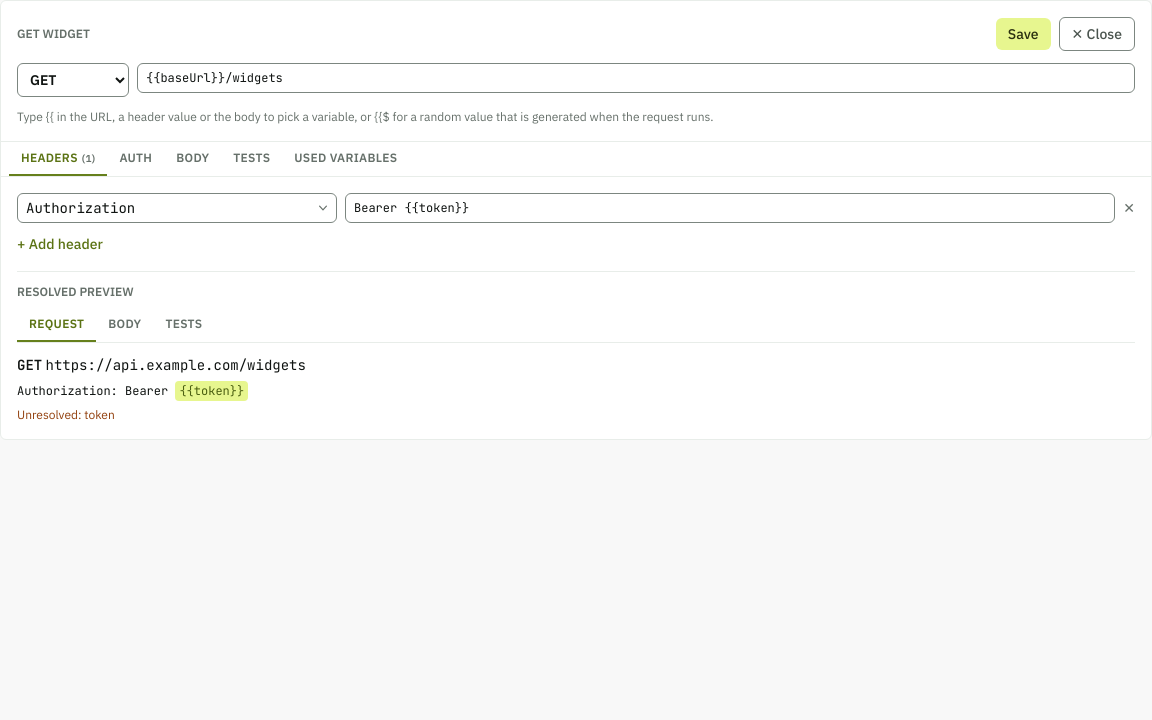
RequestEditorPanel — effective auth and used variables (FR-002a, FR-002b) › shows inherited folder auth with its source and {{variable}} fields, and a hidden secret literal as hidden
Click the tab "Auth" at (136, 159), box [107, 142, 164, 176]
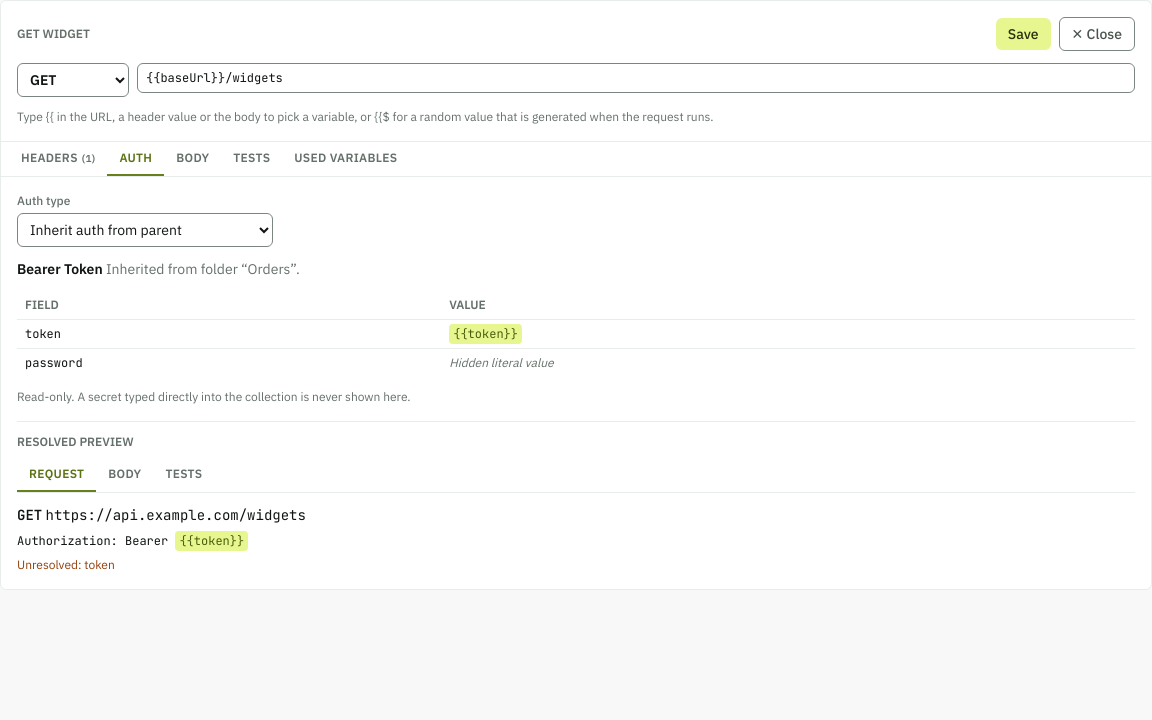
Expected: the dropdown labelled "Auth type" shows "Inherit auth from parent", [17, 213, 273, 247]
Expected: the text "Bearer Token" is shown, [17, 260, 103, 278]
Expected: the text "Inherited from folder “Orders”." is shown, [106, 260, 300, 278]
